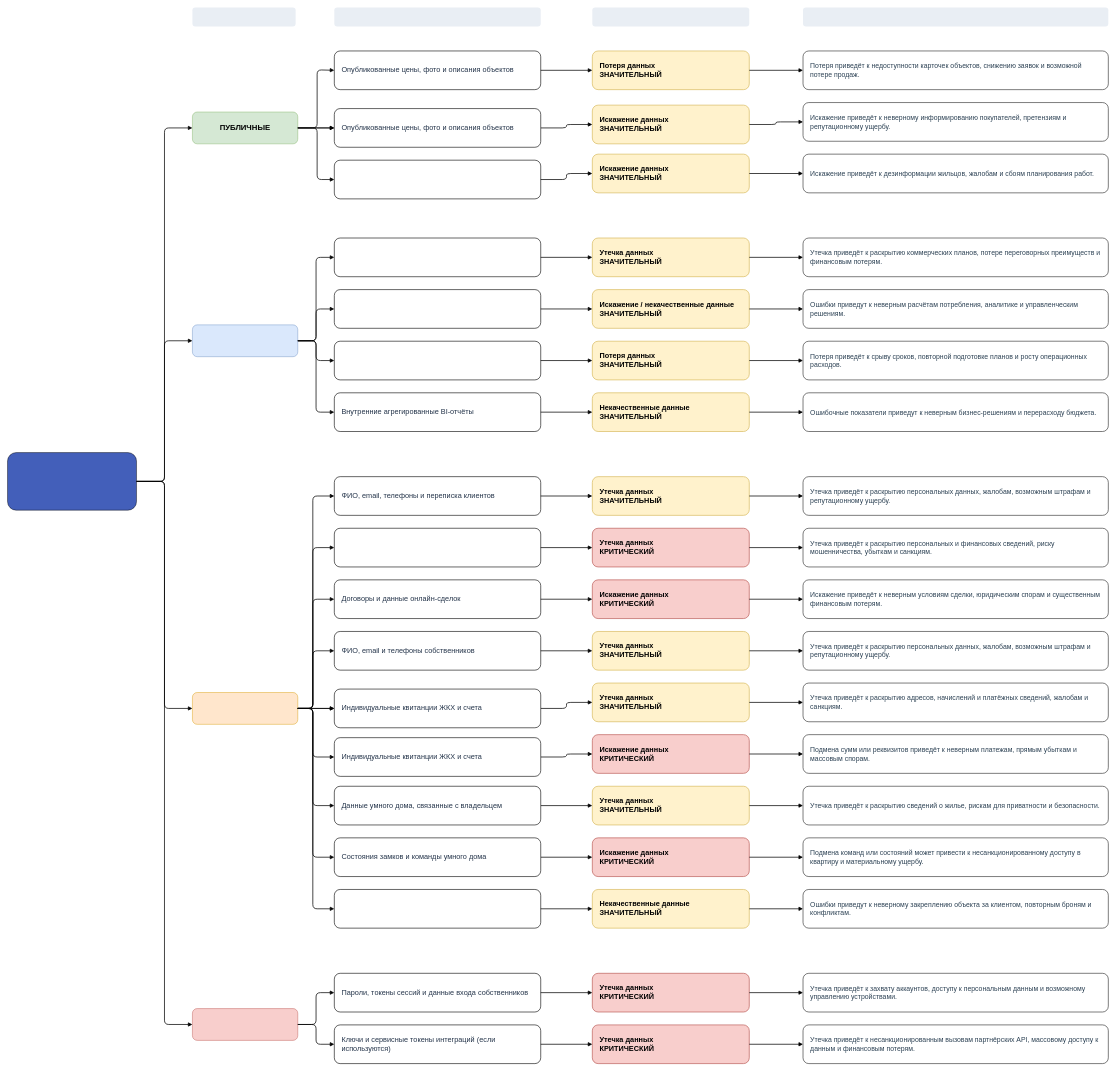
Some shapes in this 1116 by 1071 pixel diagram are drawn without their labels. Each missing label, with the centre of its shape:
"БЕЗОПАСНОСТЬ ДАННЫХ" goes at point 72,481.
"ВНУТРЕННИЕ" goes at point 245,340.
"Внутренние планы ремонтов и работ" goes at point 437,360.
"Договоры продажи и реквизиты сторон" goes at point 437,547.
"История осмотров и бронирований" goes at point 437,908.
"КЛАСС ДАННЫХ" goes at point 243,16.
"КОНФИДЕНЦИАЛЬНЫЕ" goes at point 245,708.
"Обезличенные показатели счётчиков и датчиков" goes at point 437,308.
"ПОСЛЕДСТВИЯ / ОБОСНОВАНИЕ" goes at point 955,16.
"Предварительные цены до публикации" goes at point 437,257.
"ПРИМЕРЫ ДАННЫХ" goes at point 437,16.
"Публичные объявления о ЖК и ремонтах" goes at point 437,179.
"РИСК И ОЦЕНКА" goes at point 670,16.
"СЕКРЕТНЫЕ" goes at point 245,1024.
